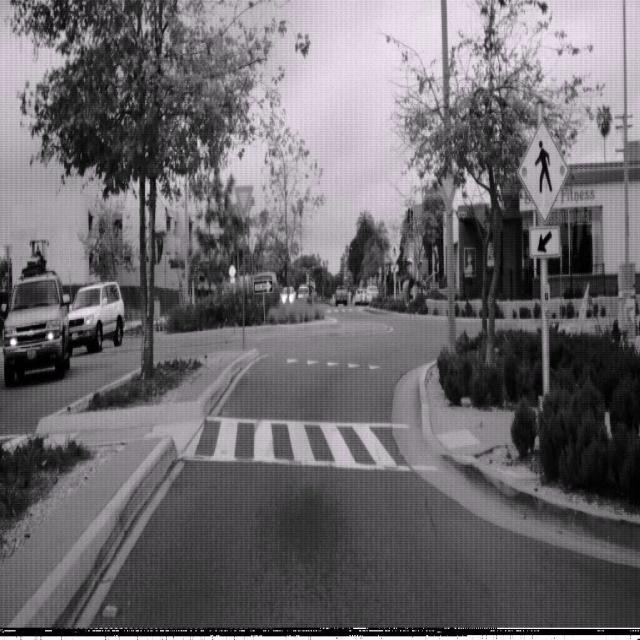pedestrianCrossing: (516, 118, 570, 224), (387, 239, 401, 266)
yield: (234, 183, 254, 222)
